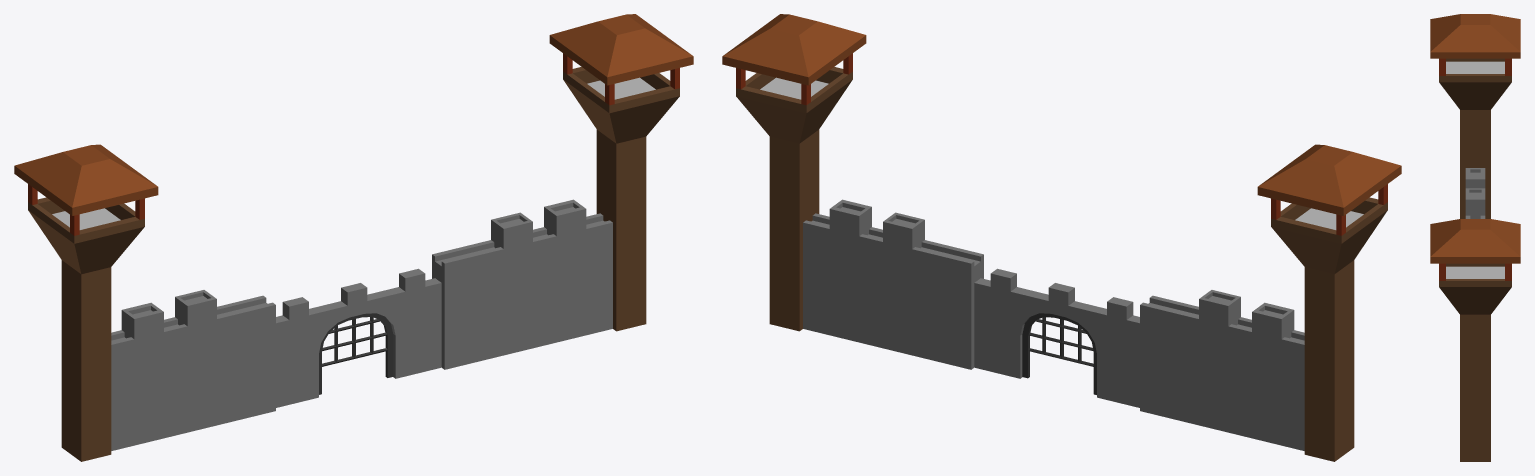
Rendered from Castle.fbx.
The picture shows the model from 3 angles, left to right: view 1: azimuth 30°, elevation 25°; view 2: azimuth 150°, elevation 25°; view 3: azimuth 270°, elevation 25°; orthographic projection. The views are drawn at different scales.
Parts seen in each view (by area): view 1: Castle; view 2: Castle; view 3: Castle.
Part boxes in pixels (bbox=[...]): Castle: bbox=[14, 14, 693, 461]; Castle: bbox=[722, 14, 1401, 461]; Castle: bbox=[1430, 14, 1520, 461].
Size of the model in its own units: 4626 by 2104 by 744.
